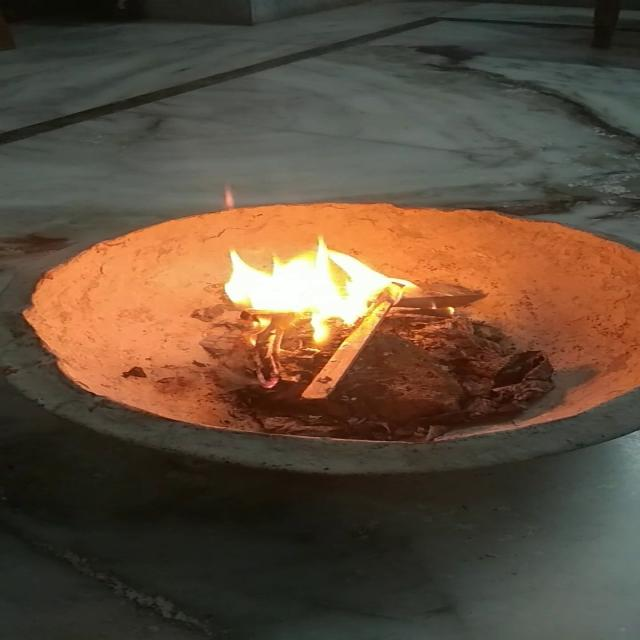fire: (218, 238, 400, 353)
